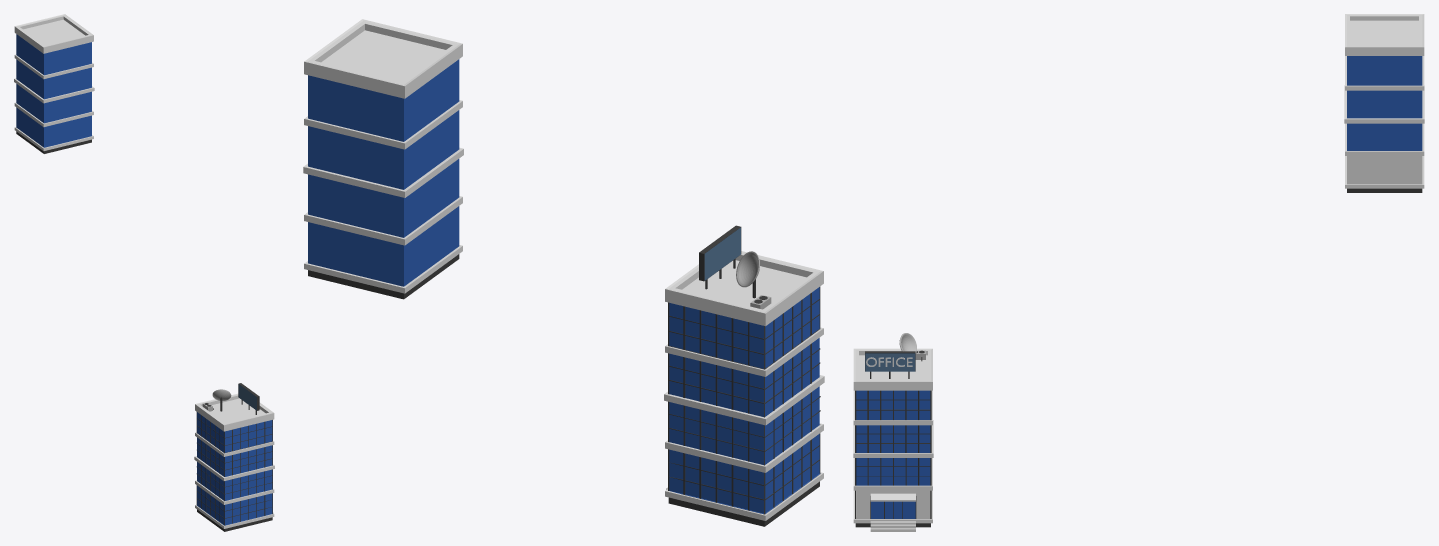
The model's file is office_low_poly.fbx.
The picture shows the model from 3 angles, left to right: view 1: azimuth 30°, elevation 25°; view 2: azimuth 150°, elevation 25°; view 3: azimuth 270°, elevation 25°; orthographic projection. The views are drawn at different scales.
Visible parts, largest first — view 1: Cube.001, Cube.004, Cube.003; view 2: Cube.001, Cube.004, Cube.003, Sphere; view 3: Cube.001, Cube.004, Cube.003.
Part boxes in pixels (bbox=[...]): Cube.001: bbox=[14, 14, 94, 153]; Cube.004: bbox=[194, 393, 274, 531]; Cube.003: bbox=[238, 383, 259, 410]; Cube.001: bbox=[303, 19, 463, 299]; Cube.004: bbox=[664, 251, 824, 526]; Cube.003: bbox=[699, 225, 741, 281]; Sphere: bbox=[736, 251, 759, 287]; Cube.001: bbox=[1344, 14, 1424, 192]; Cube.004: bbox=[853, 348, 933, 531]; Cube.003: bbox=[865, 351, 915, 371].
Bounding box in the file's own units: 237 × 1406 × 1515.
